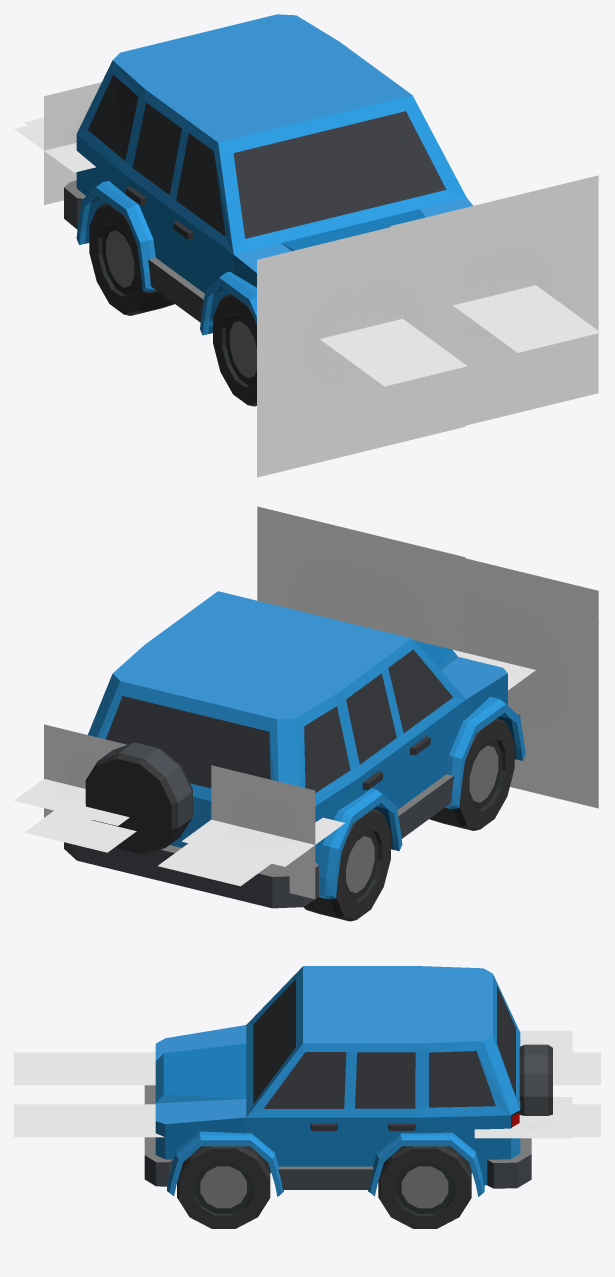
Rendered from SnowJeepMansion.fbx.
3 views of the same model, one above another, from view 1: azimuth 30°, elevation 25°; view 2: azimuth 150°, elevation 25°; view 3: azimuth 270°, elevation 25° (orthographic). The views are drawn at different scales.
Parts seen in each view (by area): view 1: StopLightBillboard (×6), BodyMesh, Wheel (×2); view 2: BodyMesh, StopLightBillboard (×8), Wheel (×2); view 3: BodyMesh, StopLightBillboard (×4), Wheel (×2).
Boxes of the visible parts, bbox=[...] form: StopLightBillboard (×6): bbox=[14, 82, 600, 477]; BodyMesh: bbox=[64, 14, 473, 335]; Wheel (×2): bbox=[89, 203, 256, 406]; BodyMesh: bbox=[64, 591, 525, 908]; StopLightBillboard (×8): bbox=[14, 506, 600, 899]; Wheel (×2): bbox=[303, 718, 514, 921]; BodyMesh: bbox=[144, 966, 552, 1196]; StopLightBillboard (×4): bbox=[14, 1030, 600, 1138]; Wheel (×2): bbox=[177, 1146, 471, 1228].
Bounding box in the file's own units: 1.64 × 1.08 × 3.
Materials: 3 (3 with a texture image).
